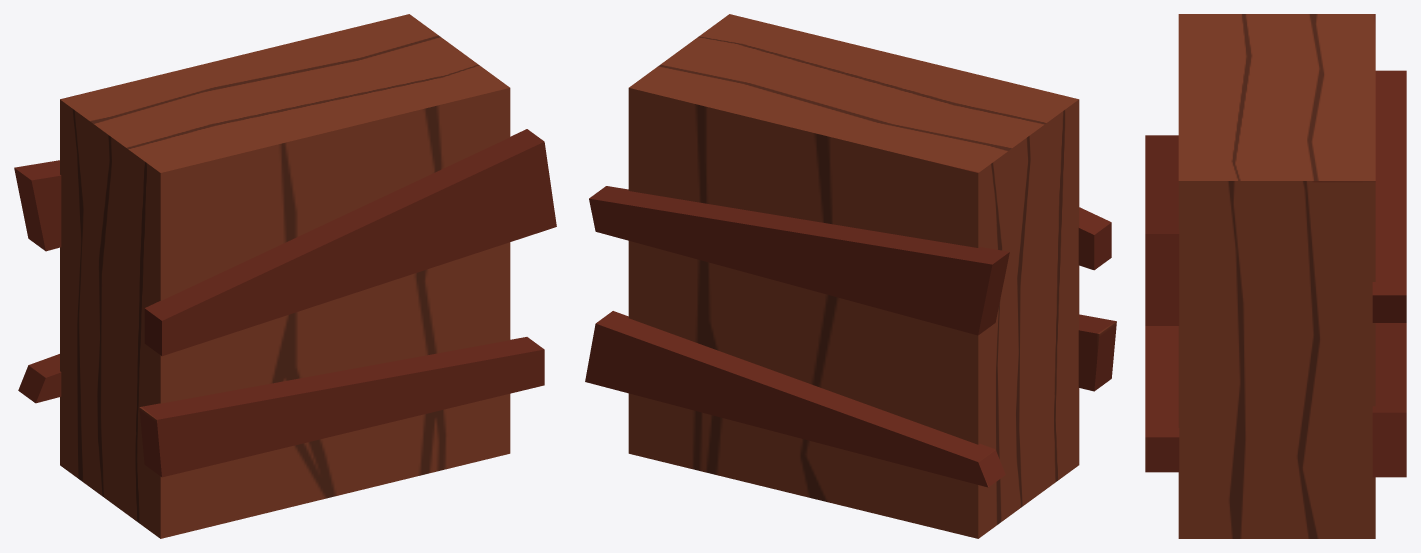
Rendered from SM_destructible1.FBX.
The picture shows the model from 3 angles, left to right: view 1: azimuth 30°, elevation 25°; view 2: azimuth 150°, elevation 25°; view 3: azimuth 270°, elevation 25°; orthographic projection. The views are drawn at different scales.
Parts seen in each view (by area): view 1: SM_destructible1; view 2: SM_destructible1; view 3: SM_destructible1.
Boxes of the visible parts, box(x1,y1,x2,y2) form: SM_destructible1: box(14, 14, 556, 538); SM_destructible1: box(585, 14, 1116, 538); SM_destructible1: box(1145, 14, 1406, 538).
Bounding box in the file's own units: 224 × 191 × 127.
1 material, 1 textured.
